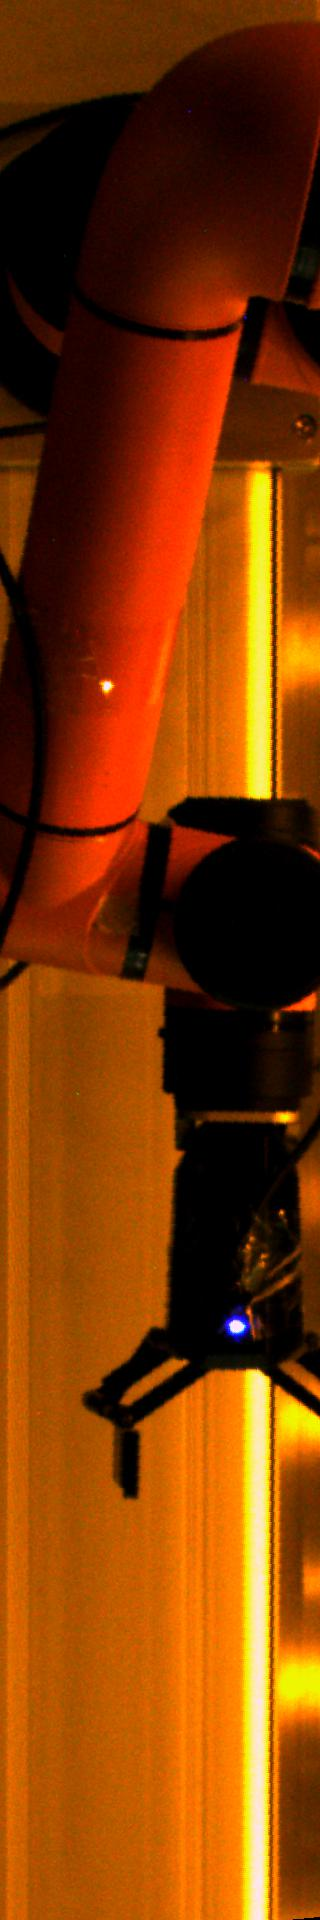keyPoint_1: (221, 1308, 251, 1338)
